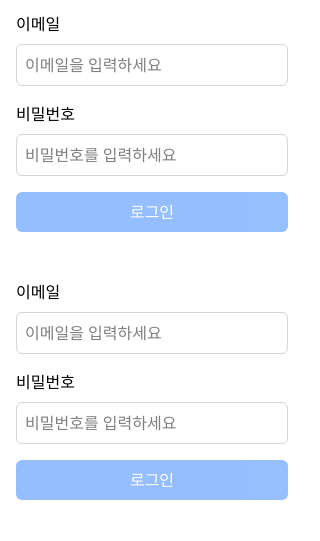
Test: 로그인 폼 테스트 › 유효성 검사 › 제대로 된 이메일 입력 시 에러 메세지가 사라지는지 확인
# 잘못된 이메일 입력 후 에러 메세지 나오는지 확인
Step 1. Type "test" into the field labelled "이메일" → (152, 65), box [16,44,288,86]
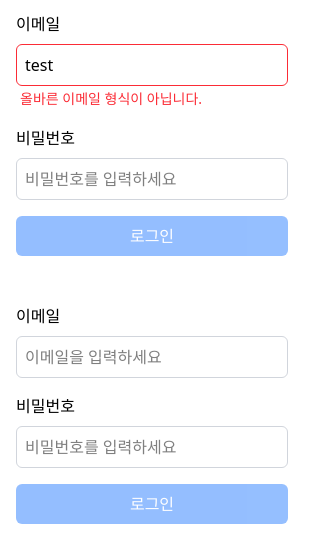
Now the text "올바른 이메일 형식이 아닙니다." is shown, box [20,89,202,108]
# 올바른 이메일 입력 후 에러 메세지 사라지는지 확인
Step 2. Replace the text in the field labelled "이메일" with "test@example.com" → (152, 65), box [16,44,288,86]
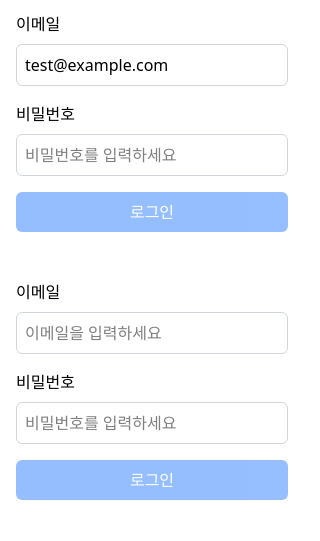
Now the text "올바른 이메일 형식이 아닙니다." is gone
